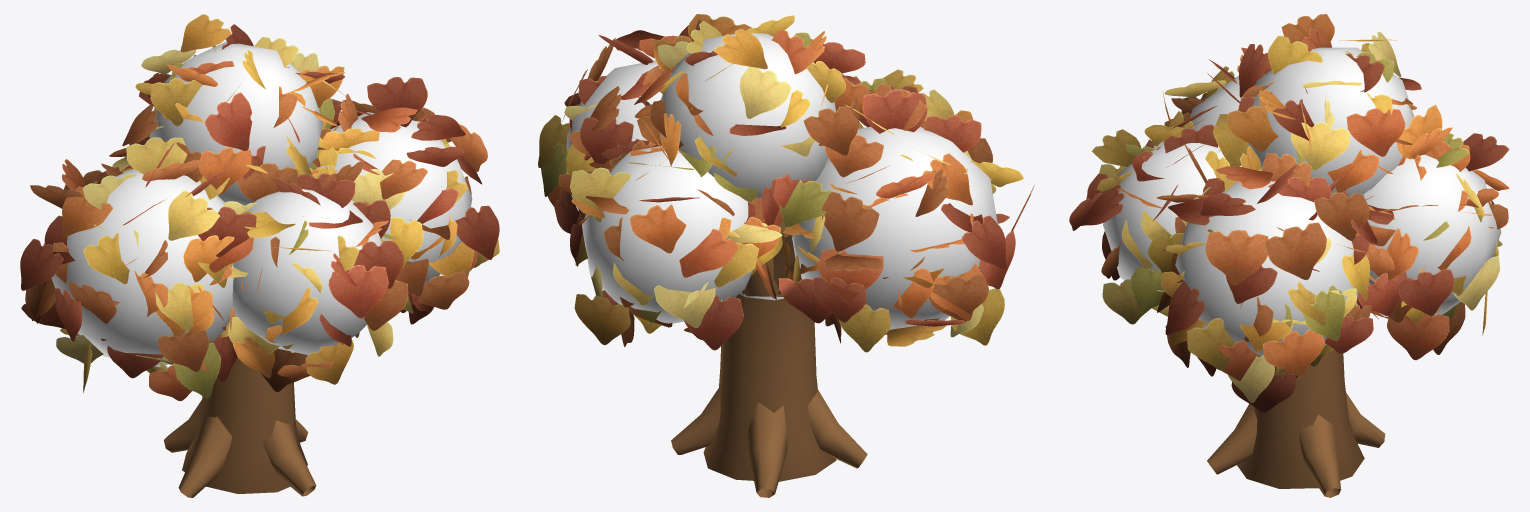
The model's file is tree-wide-autumn.glb.
3 renders of one model, left to right at view 1: azimuth 30°, elevation 25°; view 2: azimuth 150°, elevation 25°; view 3: azimuth 270°, elevation 25°, orthographic. The views are drawn at different scales.
Parts seen in each view (by area): view 1: Crown, Hull, Trunk; view 2: Crown, Hull, Trunk; view 3: Crown, Hull, Trunk.
Part boxes in pixels (<box>): Crown: <box>20,14,499,401</box>; Hull: <box>51,41,472,367</box>; Trunk: <box>164,357,316,497</box>; Crown: <box>538,14,1034,352</box>; Hull: <box>566,33,997,329</box>; Trunk: <box>671,221,867,497</box>; Crown: <box>1069,14,1509,412</box>; Hull: <box>1103,47,1501,355</box>; Trunk: <box>1207,350,1385,497</box>.
Bounding box in the file's own units: 3.6 × 3.27 × 3.12.
4 materials, 1 textured.
